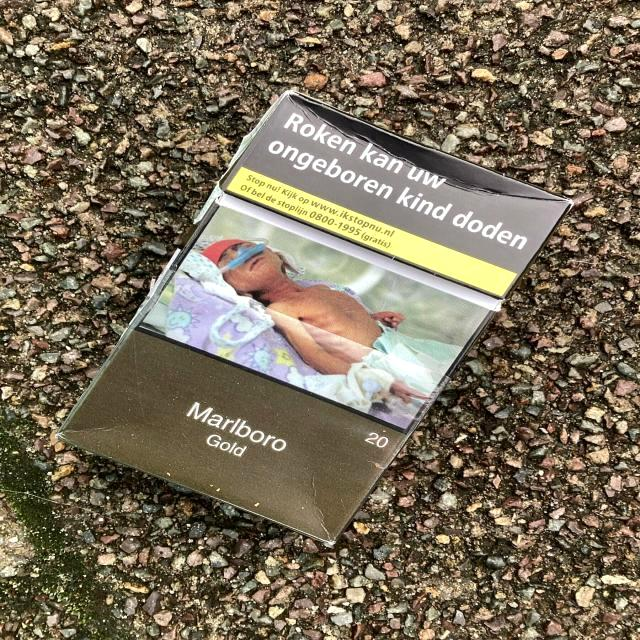Paper: (52, 82, 574, 552)
